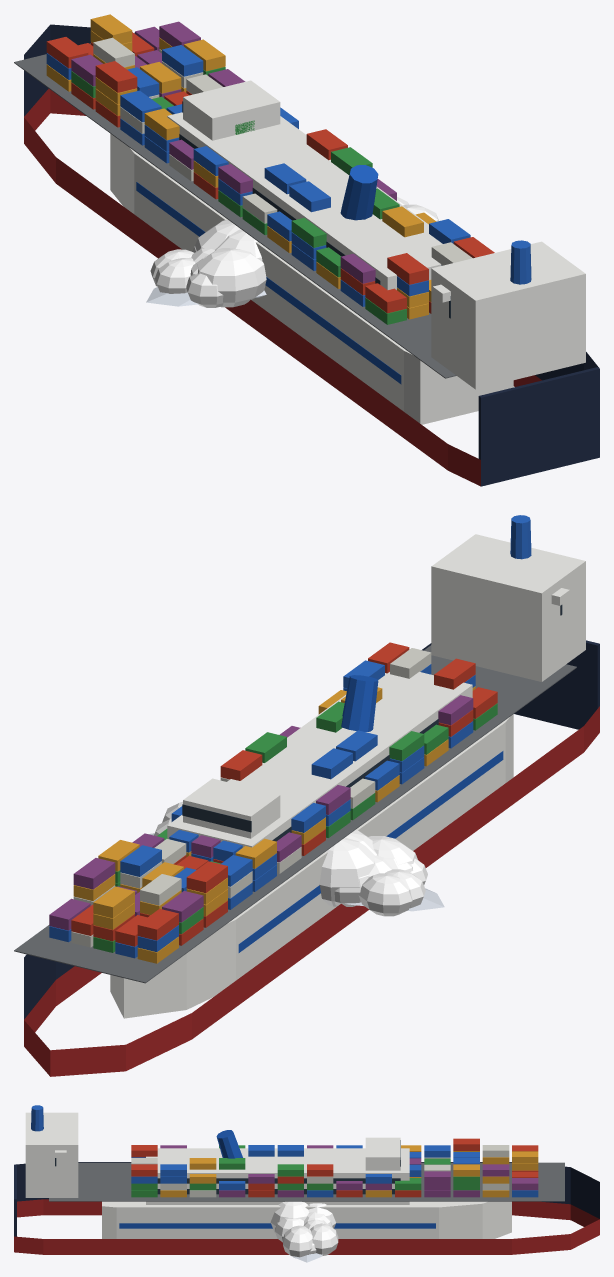
The model's file is city7.glb.
The picture shows the model from 3 angles, top to bottom: view 1: azimuth 30°, elevation 25°; view 2: azimuth 150°, elevation 25°; view 3: azimuth 270°, elevation 25°; orthographic projection. The views are drawn at different scales.
Visible parts, largest first — view 1: C7_ContainerShip, C7_Ferry, C7_Cloud1, C7_Cloud2, C7_Cloud0; view 2: C7_ContainerShip, C7_Ferry, C7_Cloud1, C7_Cloud2, C7_Cloud0; view 3: C7_ContainerShip, C7_Ferry, C7_Cloud1, C7_Cloud2.
Part boxes in pixels (x1,y1,x2,y2): C7_ContainerShip: (14, 14, 599, 486); C7_Ferry: (110, 80, 513, 424); C7_Cloud1: (150, 197, 438, 307); C7_Cloud2: (146, 257, 266, 307); C7_Cloud0: (190, 229, 262, 276); C7_ContainerShip: (14, 515, 599, 1076); C7_Ferry: (110, 671, 513, 1018); C7_Cloud1: (154, 801, 417, 916); C7_Cloud2: (148, 833, 444, 911); C7_Cloud0: (334, 829, 412, 906); C7_ContainerShip: (14, 1105, 599, 1254); C7_Ferry: (102, 1130, 511, 1238); C7_Cloud1: (270, 1201, 338, 1258); C7_Cloud2: (275, 1212, 332, 1262).
Size of the model in its own units: 70.4 by 48 by 200.
